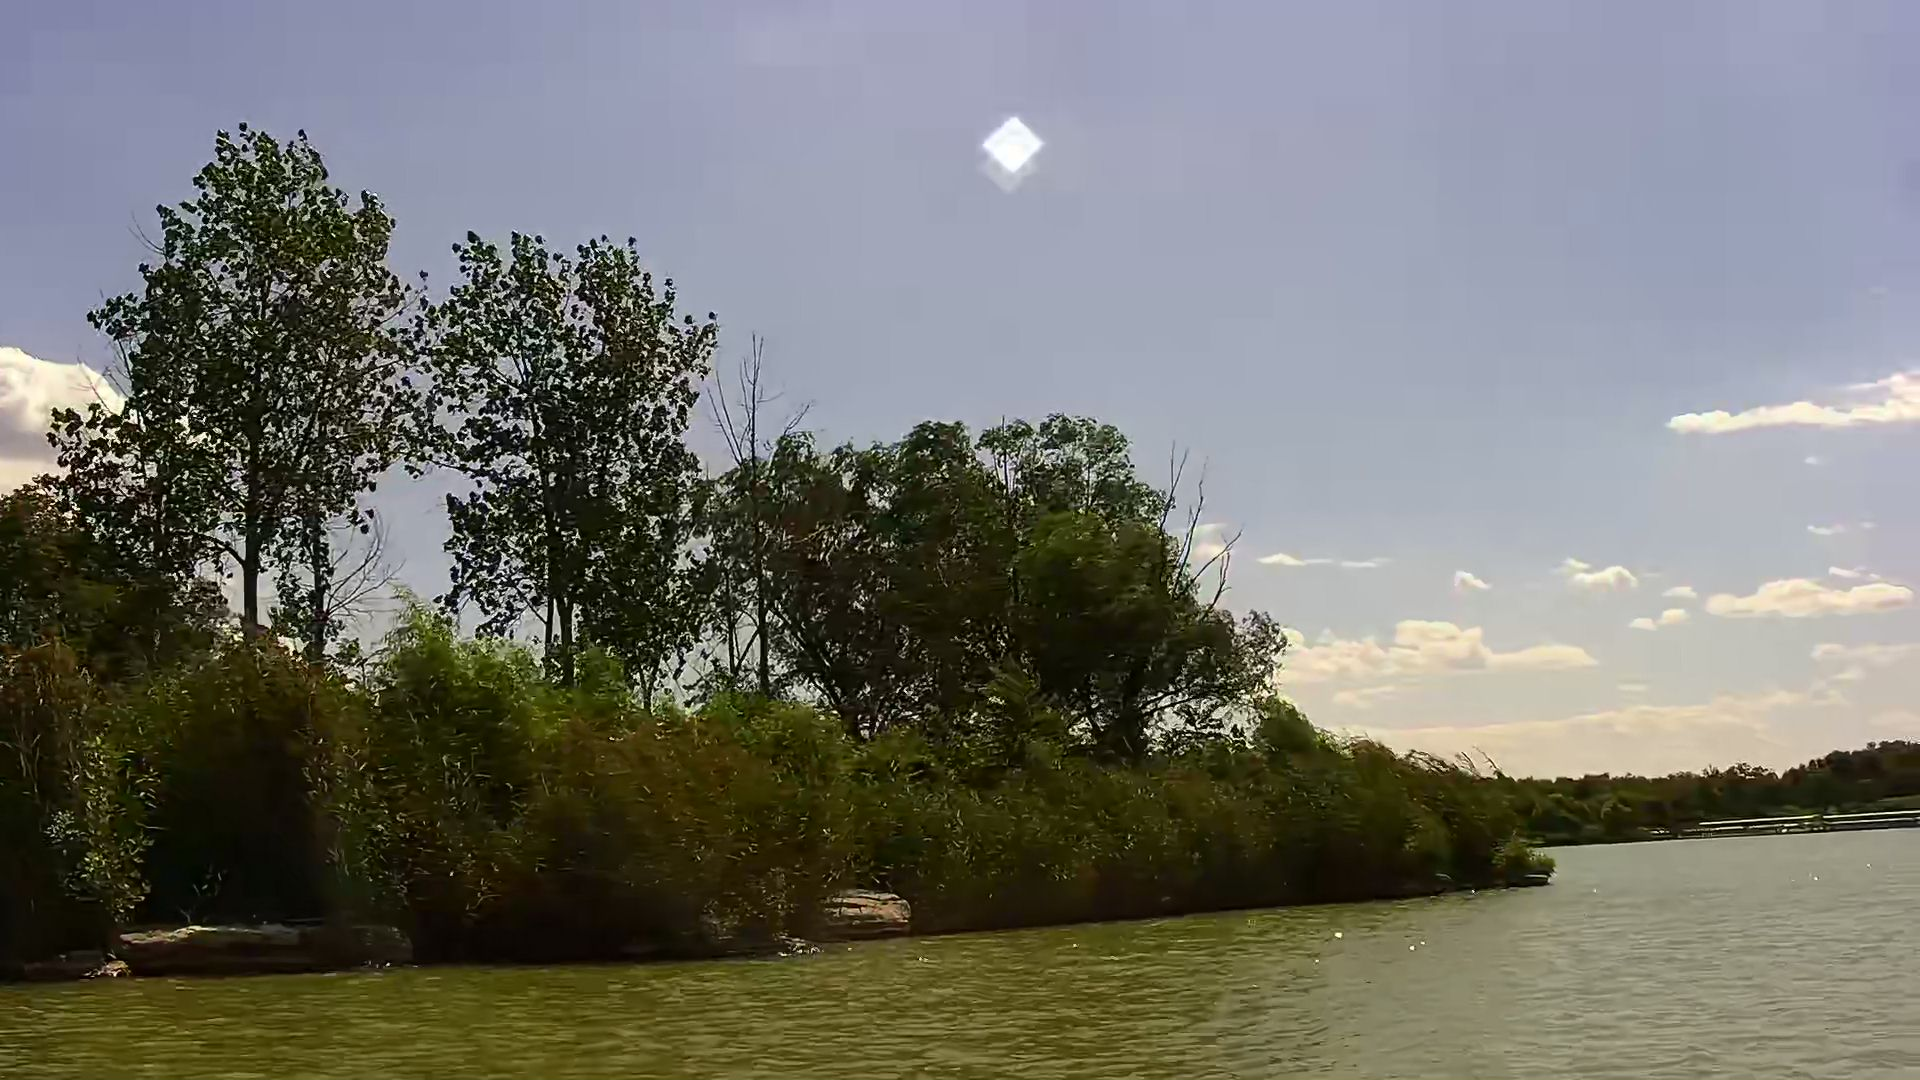harbor: (1689, 811, 1920, 833)
rock: (117, 920, 313, 967), (818, 886, 918, 938)
